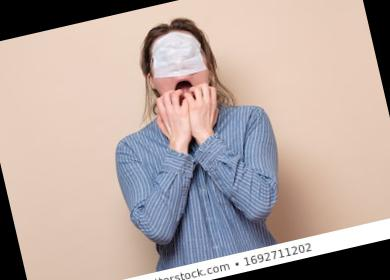mask_weared_incorrect: (148, 38, 215, 113)
